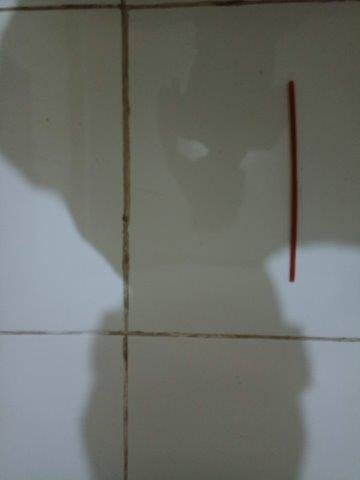sedotan: (288, 80, 298, 283)
